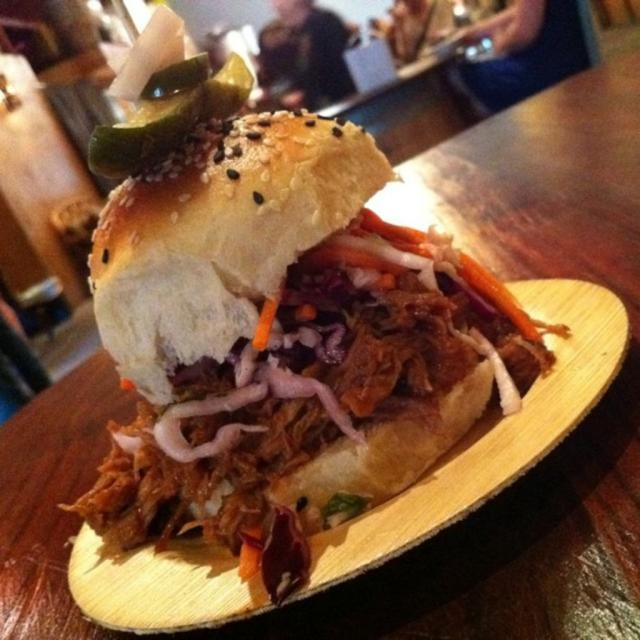Hamburger: (57, 4, 571, 605)
